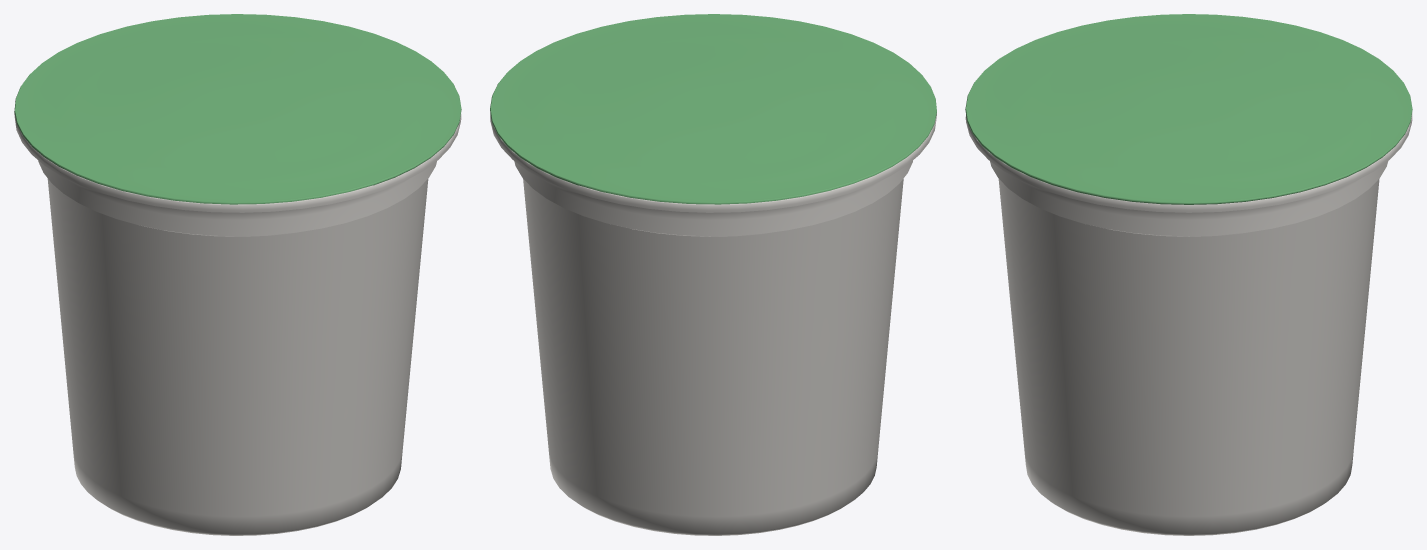
The model's file is pods.glb.
3 renders of one model, left to right at view 1: azimuth 30°, elevation 25°; view 2: azimuth 150°, elevation 25°; view 3: azimuth 270°, elevation 25°, orthographic.
Visible parts, largest first — view 1: kcup_tub, lid_regular; view 2: kcup_tub, lid_regular; view 3: kcup_tub, lid_regular.
Part boxes in pixels (x1,y1,x2,y2): kcup_tub: (14, 112, 461, 535); lid_regular: (14, 14, 461, 204); kcup_tub: (490, 113, 936, 535); lid_regular: (490, 14, 936, 204); kcup_tub: (965, 113, 1412, 535); lid_regular: (965, 14, 1412, 204).
Size of the model in its own units: 2.66 by 2.39 by 2.66.
